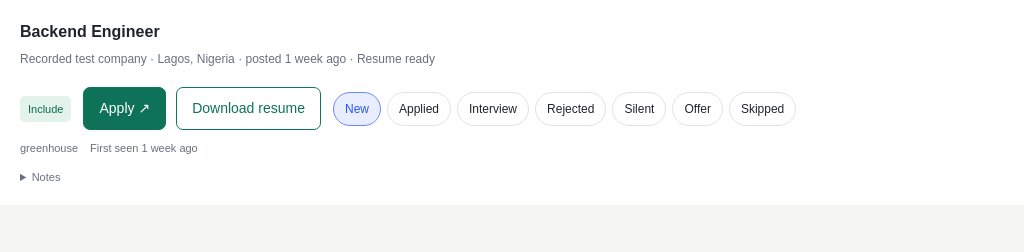
it: JobCard status persistence › keeps the old status visible and shows a failed update
Click the button "Applied" at (419, 109), box [387,92,451,126]
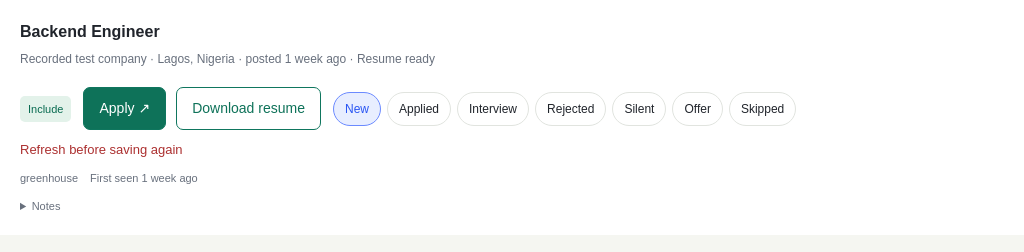
expect the message shows "Refresh before saving": met, box [20,142,183,157]
